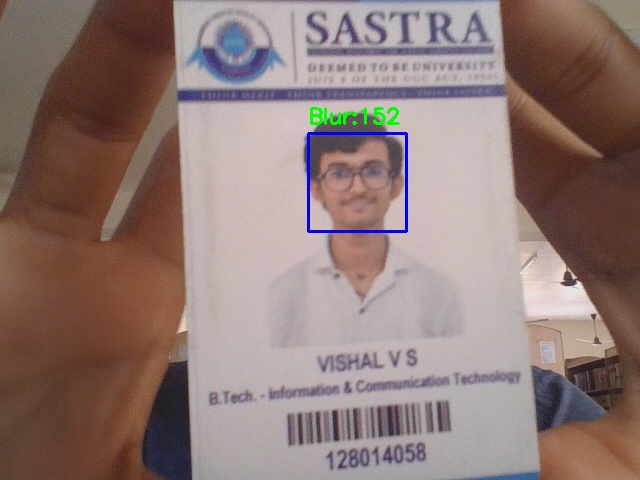fake: (308, 133, 406, 231)
